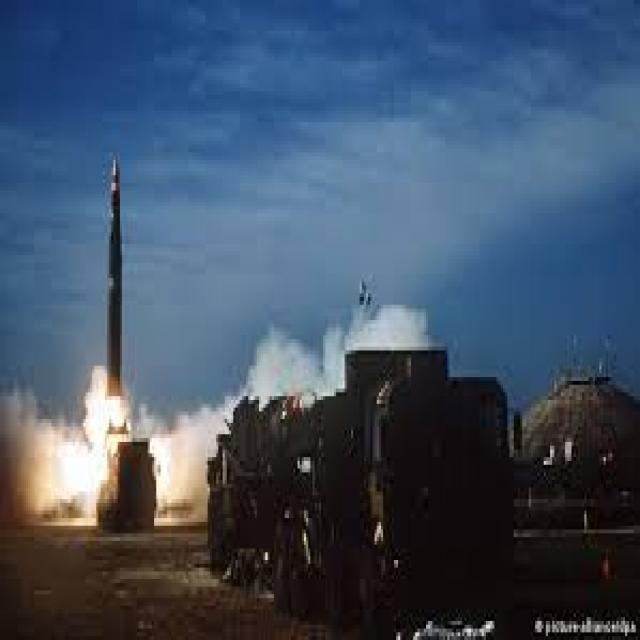Missile: (107, 144, 124, 405)
